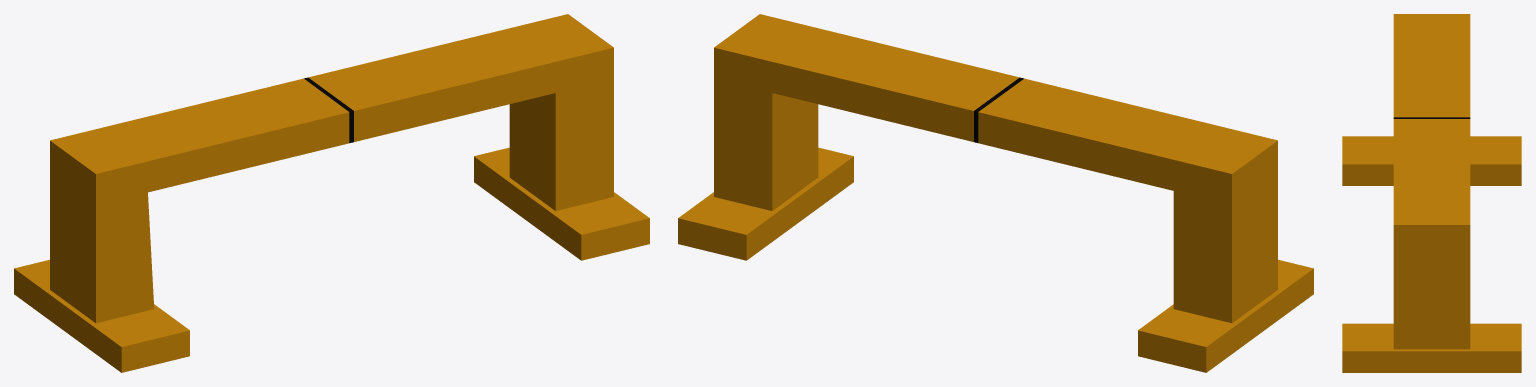
File: Mesh_Static_SectionMarker_0.fbx
3 views of the same model, side by side, from view 1: azimuth 30°, elevation 25°; view 2: azimuth 150°, elevation 25°; view 3: azimuth 270°, elevation 25° (orthographic). The views are drawn at different scales.
Parts seen in each view (by area): view 1: section holder; view 2: section holder; view 3: section holder.
Part boxes in pixels (x1,y1,x2,y2): section holder: (14,14,649,372); section holder: (678,14,1313,372); section holder: (1342,14,1521,372).
Size of the model in its own units: 567 by 180 by 200.
